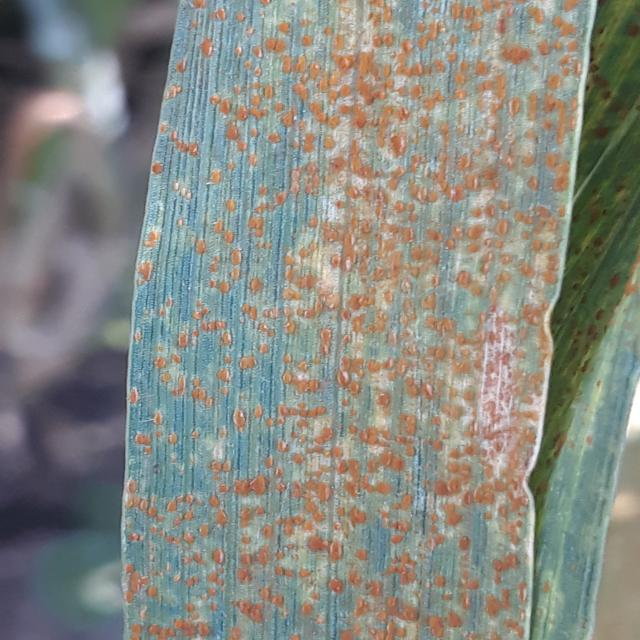orang_rust: (113, 1, 612, 640), (532, 0, 639, 537)
